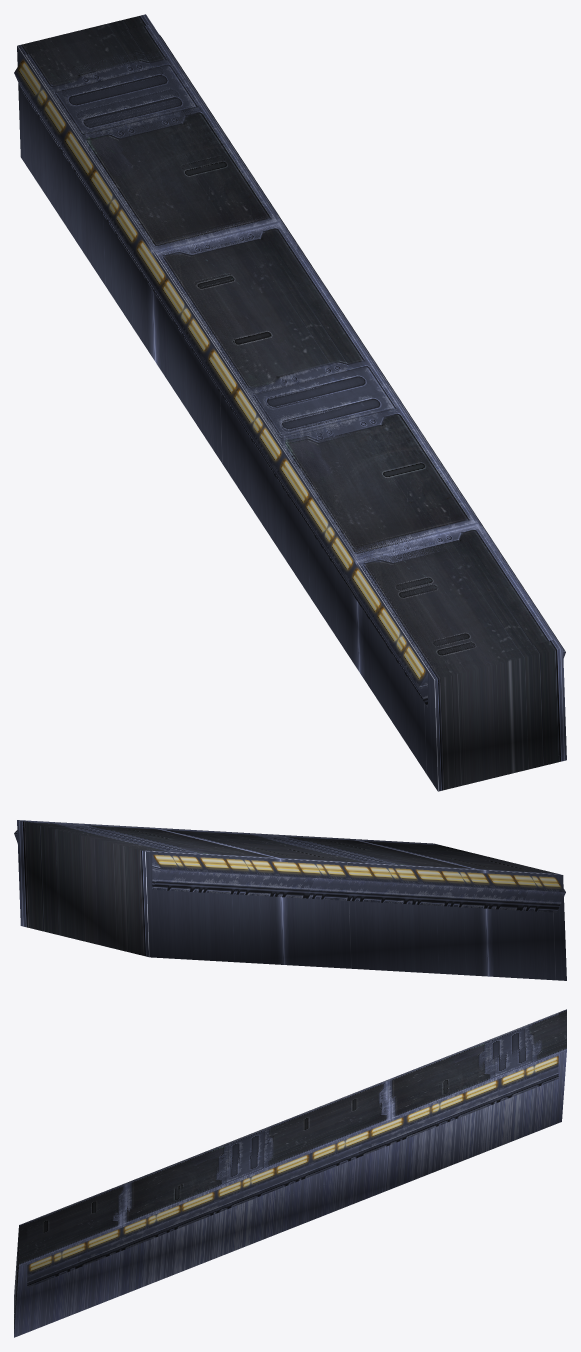
Rendered from Walkway_Incline.fbx.
The picture shows the model from 3 angles, top to bottom: view 1: azimuth 30°, elevation 25°; view 2: azimuth 150°, elevation 25°; view 3: azimuth 270°, elevation 25°; orthographic projection. The views are drawn at different scales.
Visible parts, largest first — view 1: Cube.005, Walkwayincline_CollMesh; view 2: Walkwayincline_CollMesh, Cube.005; view 3: Walkwayincline_CollMesh, Cube.005.
Part boxes in pixels (x1=…): Cube.005: x1=14, y1=24, x2=565, y2=708; Walkwayincline_CollMesh: x1=17, y1=14, x2=566, y2=791; Walkwayincline_CollMesh: x1=17, y1=820, x2=566, y2=980; Cube.005: x1=14, y1=821, x2=565, y2=912; Walkwayincline_CollMesh: x1=14, y1=1009, x2=566, y2=1337; Cube.005: x1=27, y1=1013, x2=558, y2=1287.
Bounding box in the file's own units: 200 × 567 × 989.
